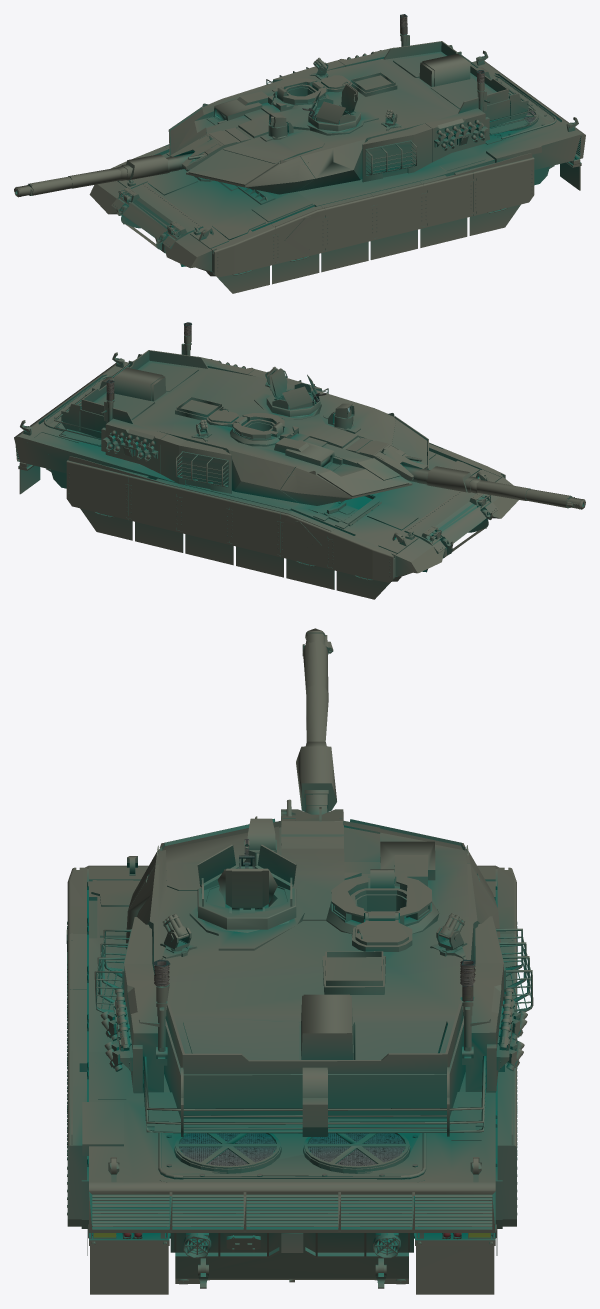
File: leopard2.glb
3 views of the same model, one above another, from view 1: azimuth 30°, elevation 25°; view 2: azimuth 150°, elevation 25°; view 3: azimuth 270°, elevation 25° (orthographic). The views are drawn at different scales.
Visible parts, largest first — view 1: turret_body, hull_body, skirtL, turret_kit, deck, gun, skirtR; view 2: turret_body, skirtR, hull_body, turret_kit, gun, deck, skirtL; view 3: turret_body, hull_body, deck, turret_kit, skirtL, skirtR, gun.
Part boxes in pixels (x1,y1,x2,y2): turret_body: (168, 41, 535, 194); hull_body: (89, 136, 585, 293); skirtL: (126, 87, 560, 277); turret_kit: (206, 14, 490, 175); deck: (421, 50, 585, 177); gun: (14, 127, 250, 197); skirtR: (108, 73, 546, 244); turret_body: (54, 350, 428, 505); skirtR: (40, 381, 485, 582); hull_body: (15, 437, 518, 599); turret_kit: (101, 322, 354, 487); gun: (345, 437, 585, 509); deck: (14, 352, 168, 480); skirtL: (54, 374, 505, 555); turret_body: (124, 818, 503, 1136); hull_body: (81, 856, 502, 1294); deck: (82, 1052, 495, 1209); turret_kit: (94, 816, 533, 1071); skirtL: (66, 867, 361, 1226); skirtR: (189, 867, 517, 1226); gun: (281, 628, 343, 848).
Size of the model in its own units: 12.74 by 3.4 by 5.01.
17 materials, 3 textured.
